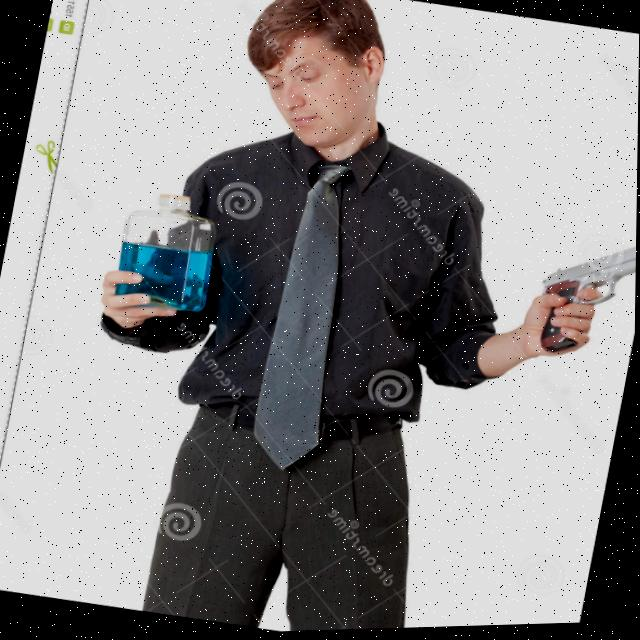pistol: (538, 218, 637, 317)
